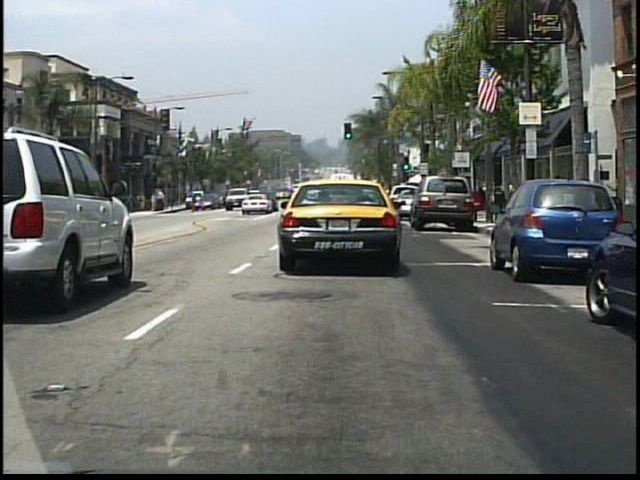person: (188, 188, 198, 214)
